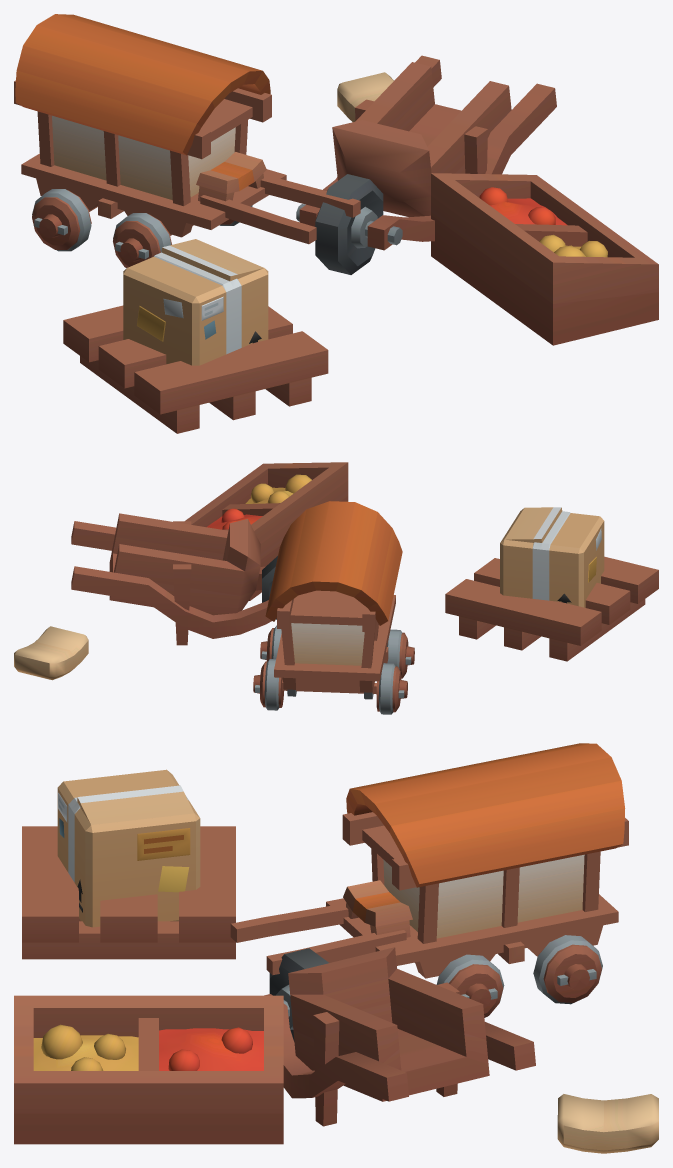
The model's file is bld_haulers_lodge_2x2.glb.
3 views of the same model, one above another, from view 1: azimuth 30°, elevation 25°; view 2: azimuth 150°, elevation 25°; view 3: azimuth 270°, elevation 25° (orthographic). The views are drawn at different scales.
Visible parts, largest first — view 1: cart, crate_long_A, wheelbarrow, pallet, Containers_Box_Large, cart_axle_rear, cart_axle_front, sack; view 2: cart, wheelbarrow, pallet, Containers_Box_Large, crate_long_A, cart_axle_rear, sack, cart_axle_front; view 3: cart, crate_long_A, wheelbarrow, pallet, Containers_Box_Large, sack, cart_axle_rear, cart_axle_front.
Part boxes in pixels (x1,y1,x2,y2): cart: (14,14,360,244); crate_long_A: (431,173,658,345); wheelbarrow: (296,55,556,274); pallet: (63,305,328,433); Containers_Box_Large: (123,239,268,365); cart_axle_rear: (32,189,97,251); cart_axle_front: (113,205,252,268); sack: (337,72,393,121); cart: (265,501,402,692); wheelbarrow: (71,513,277,645); pallet: (445,556,658,661); Containers_Box_Large: (500,507,604,607); crate_long_A: (185,462,348,600); cart_axle_rear: (253,659,407,714); sack: (14,626,88,680); cart_axle_front: (260,625,414,678); cart: (230,743,628,978); crate_long_A: (14,995,283,1144); wheelbarrow: (264,947,535,1126); pallet: (22,826,235,959); Containers_Box_Large: (57,769,200,927); sack: (557,1094,658,1153); cart_axle_rear: (533,935,602,1004); cart_axle_front: (436,954,504,1017).
Size of the model in its own units: 1.81 by 0.5829 by 1.63.
Materials: 6 (6 with a texture image).
